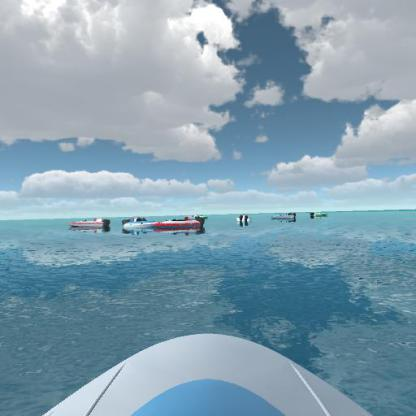usv0: (306, 208, 334, 223)
usv1: (123, 214, 161, 238), (268, 209, 300, 226), (233, 208, 258, 229)
usv3: (152, 210, 206, 234), (66, 214, 116, 236)
